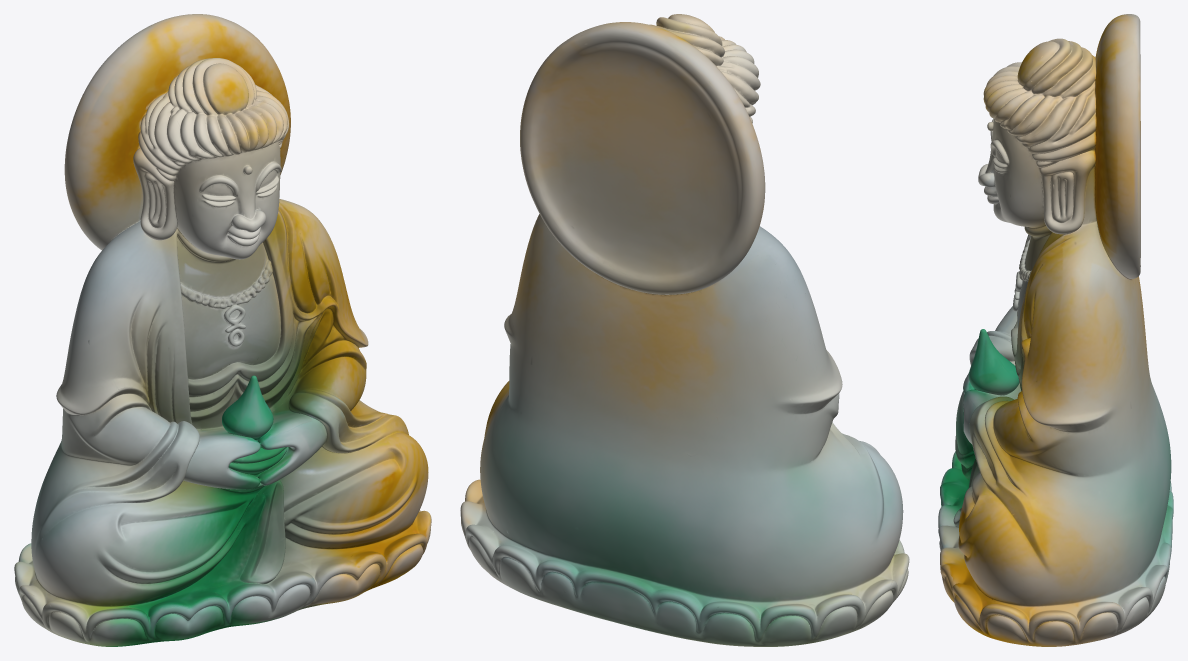
3 views of the same model, side by side, from view 1: azimuth 30°, elevation 25°; view 2: azimuth 150°, elevation 25°; view 3: azimuth 270°, elevation 25° (orthographic). The views are drawn at different scales.
Visible parts, largest first — view 1: texture_pbr_v128; view 2: texture_pbr_v128; view 3: texture_pbr_v128.
Part boxes in pixels (x1,y1,x2,y2): texture_pbr_v128: (14,14,431,646); texture_pbr_v128: (460,14,909,646); texture_pbr_v128: (938,14,1173,646).
Size of the model in its own units: 0.7482 by 0.9923 by 0.3952.
Materials: 1 (1 with a texture image).
